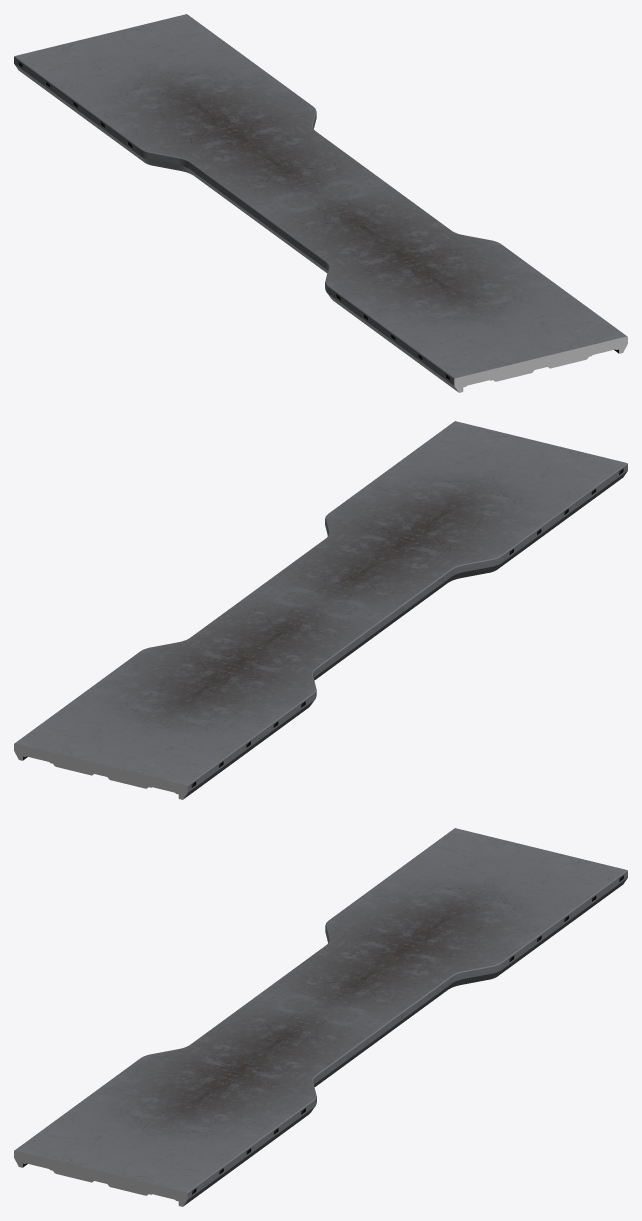
The model's file is SM_HangarRoof01.fbx.
3 renders of one model, top to bottom at view 1: azimuth 30°, elevation 25°; view 2: azimuth 150°, elevation 25°; view 3: azimuth 330°, elevation 25°, orthographic.
Parts seen in each view (by area): view 1: SM_HangarRoof01_LOD0; view 2: SM_HangarRoof01_LOD0; view 3: SM_HangarRoof01_LOD0.
Part boxes in pixels (bbox=[...]): SM_HangarRoof01_LOD0: bbox=[14, 14, 627, 392]; SM_HangarRoof01_LOD0: bbox=[14, 421, 627, 799]; SM_HangarRoof01_LOD0: bbox=[14, 828, 627, 1206].
Size of the model in its own units: 581 by 2550 by 49.91.
Materials: 2 (1 with a texture image).
